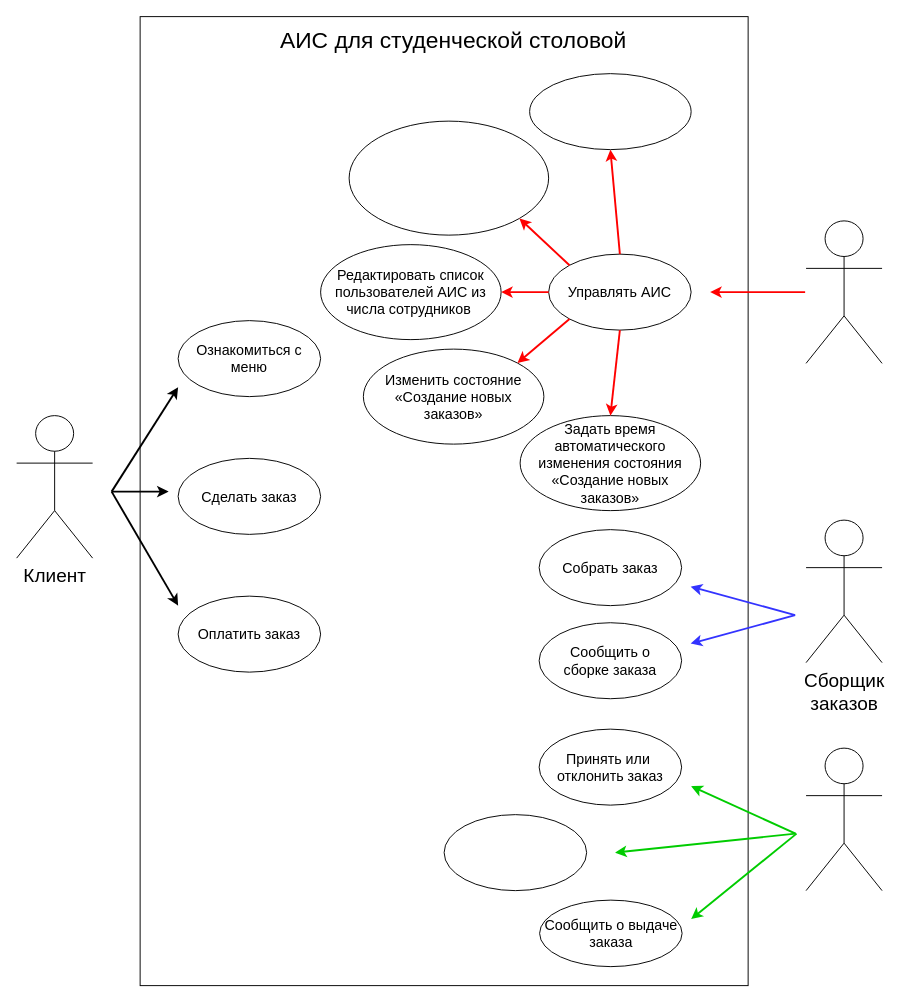
This 922x1002 diagram has some shape labels left out. Here are the shapes that lost their labels. From the top down, the box of each, then its label:
(529, 73, 691, 150): Редактировать стоп-лист
(348, 120, 549, 235): Изменить максимальное количество порций определенного блюда для заказа
(805, 220, 882, 363): Управляющий столовой
(805, 747, 882, 891): Кассир
(443, 814, 587, 891): Принять оплату заказа
